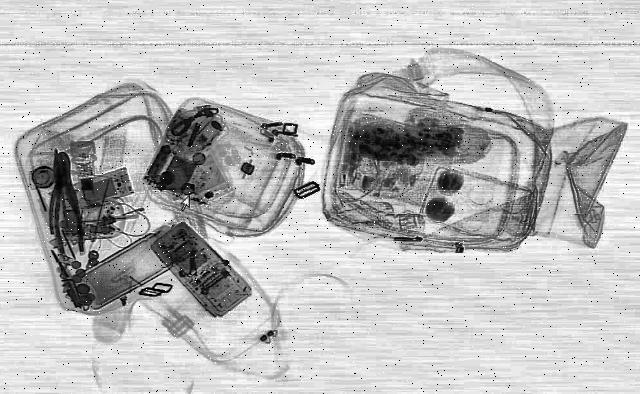Pliers: (40, 149, 88, 254), (44, 152, 86, 234)
